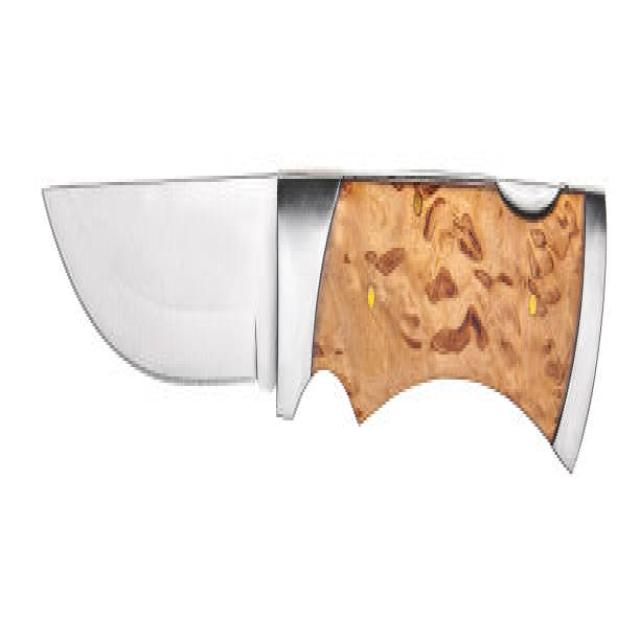knife: (37, 158, 607, 487)
